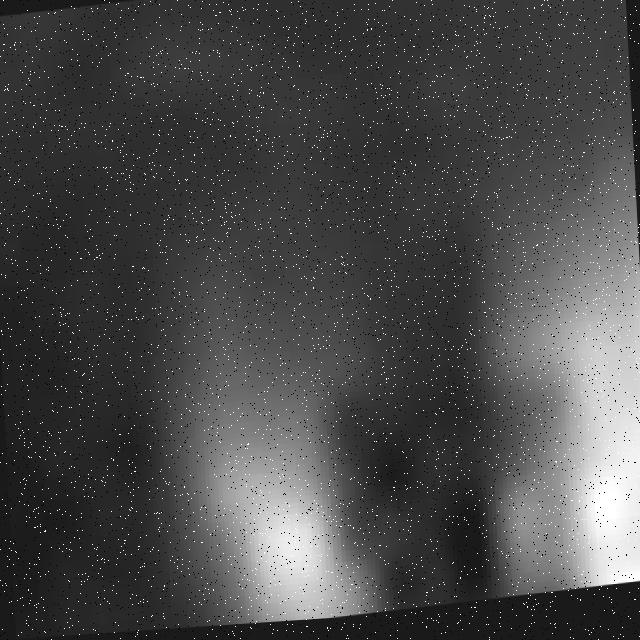person: (138, 247, 366, 634), (483, 167, 640, 606)
